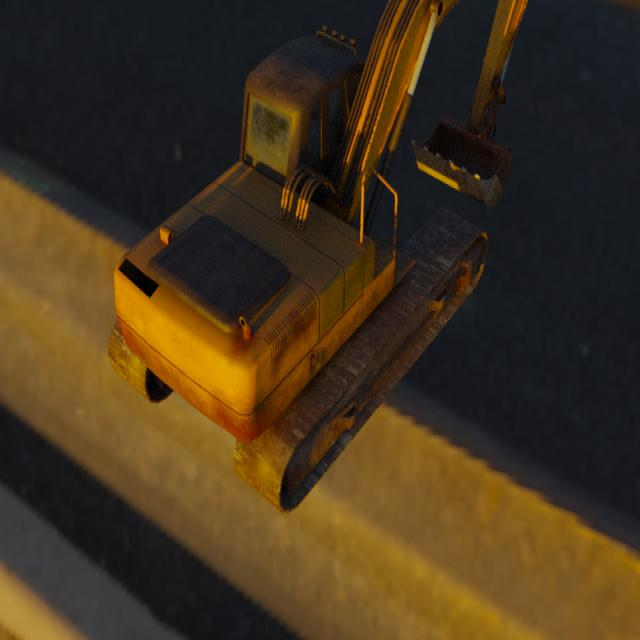excavator: (107, 0, 528, 515)
